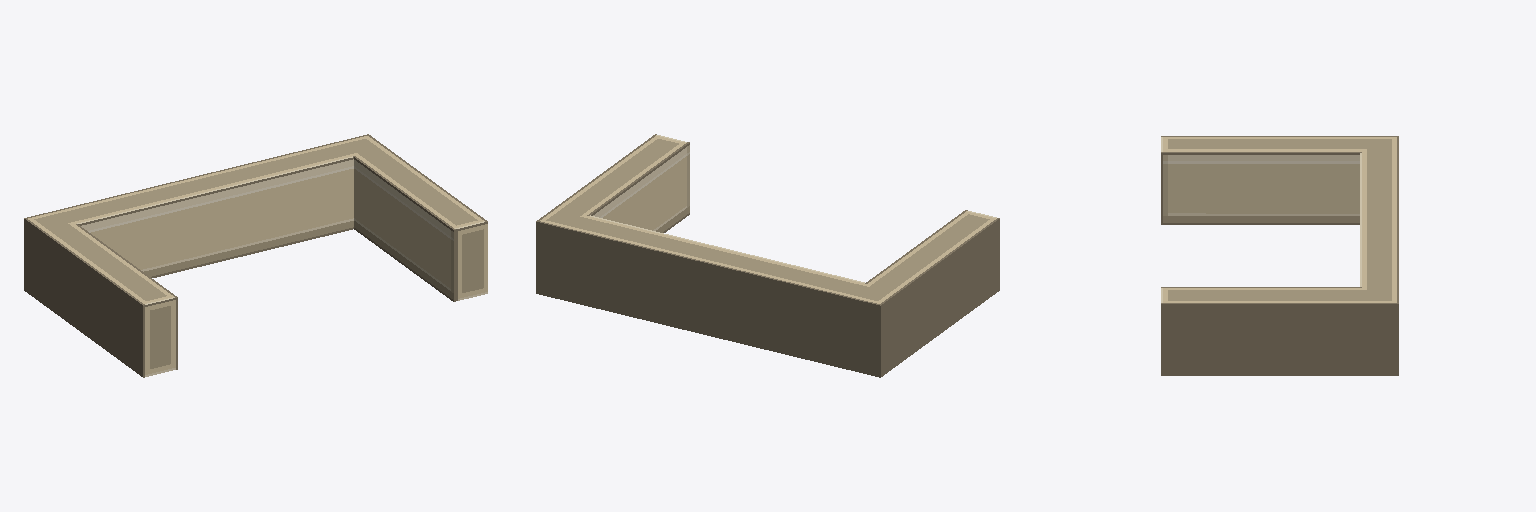
The picture shows the model from 3 angles: view 1: azimuth 30°, elevation 25°; view 2: azimuth 150°, elevation 25°; view 3: azimuth 270°, elevation 25°; orthographic projection.
Parts seen in each view (by area): view 1: Grid_Grid.002; view 2: Grid_Grid.002; view 3: Grid_Grid.002.
Boxes of the visible parts, box(x1,y1,x2,y2) form: Grid_Grid.002: box(24, 134, 487, 377); Grid_Grid.002: box(536, 134, 999, 377); Grid_Grid.002: box(1161, 136, 1398, 375).
Bounding box in the file's own units: 6.4 × 1.28 × 3.84.
Materials: 4 (3 with a texture image).